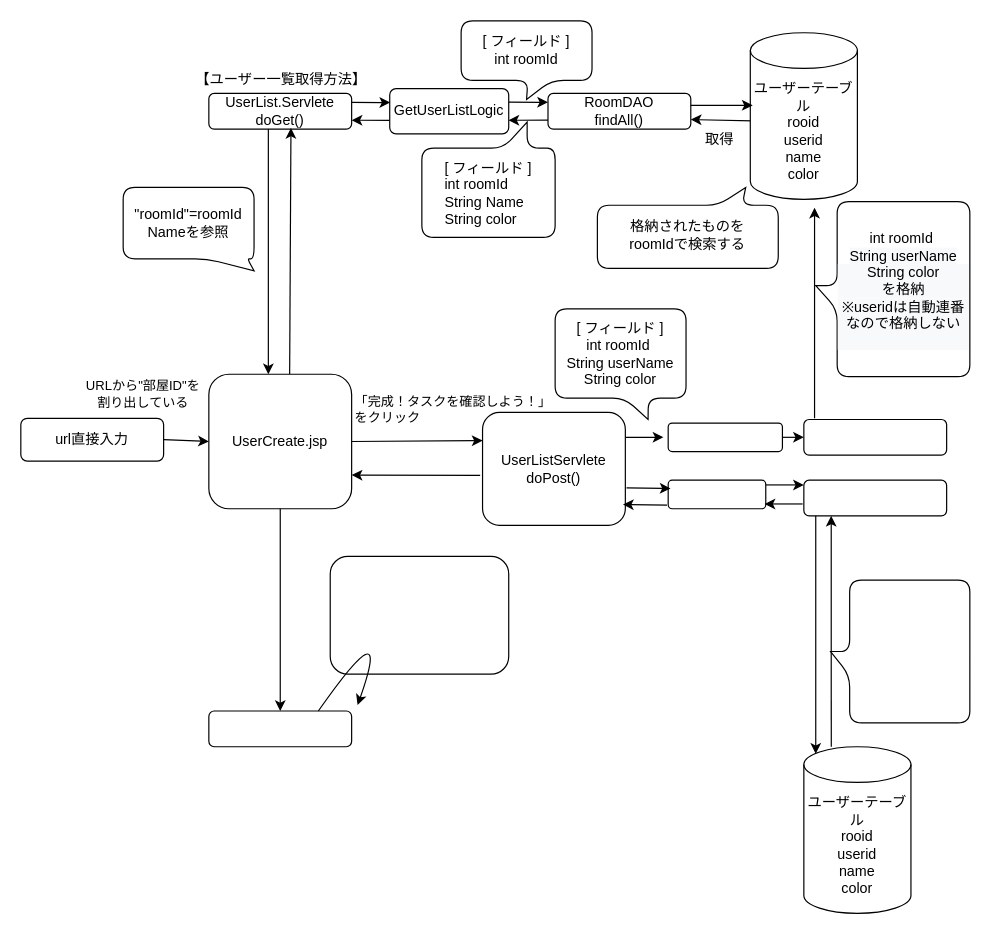
Image size: 991x934. Some labels were removed from this diagram. The box of each missing label's shape, as (x1, y1, x2, y2) in pixels:
PostUserid: (667, 479, 766, 509)
PostUserLogic: (667, 422, 782, 452)
TaskListServlet: (208, 710, 352, 747)
UserDAO create(): (803, 418, 947, 455)
UserDAO find(): (803, 479, 947, 516)
セッションスコープ [loguinuser] ROOMID USERID NAME COLOR: (329, 555, 509, 674)
自動連番で作成 されたuseridを 取得する: (829, 579, 970, 723)
